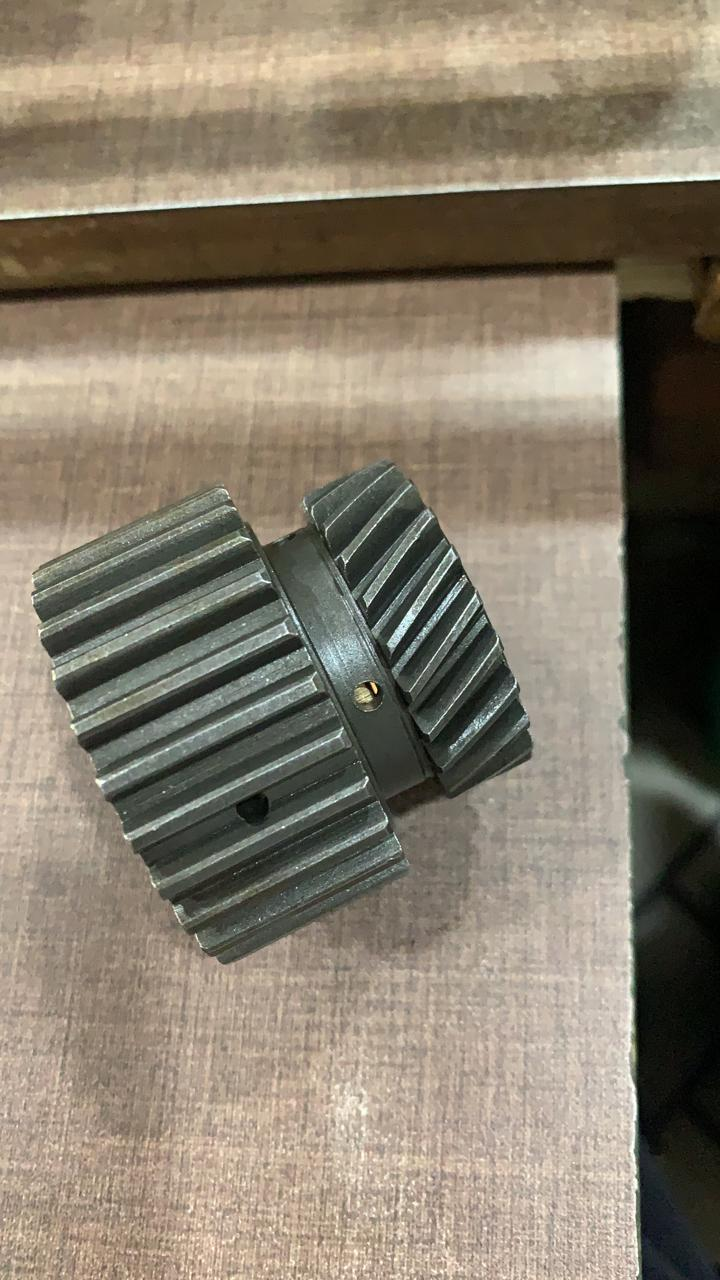engine gear alfa: (3, 422, 579, 968)
